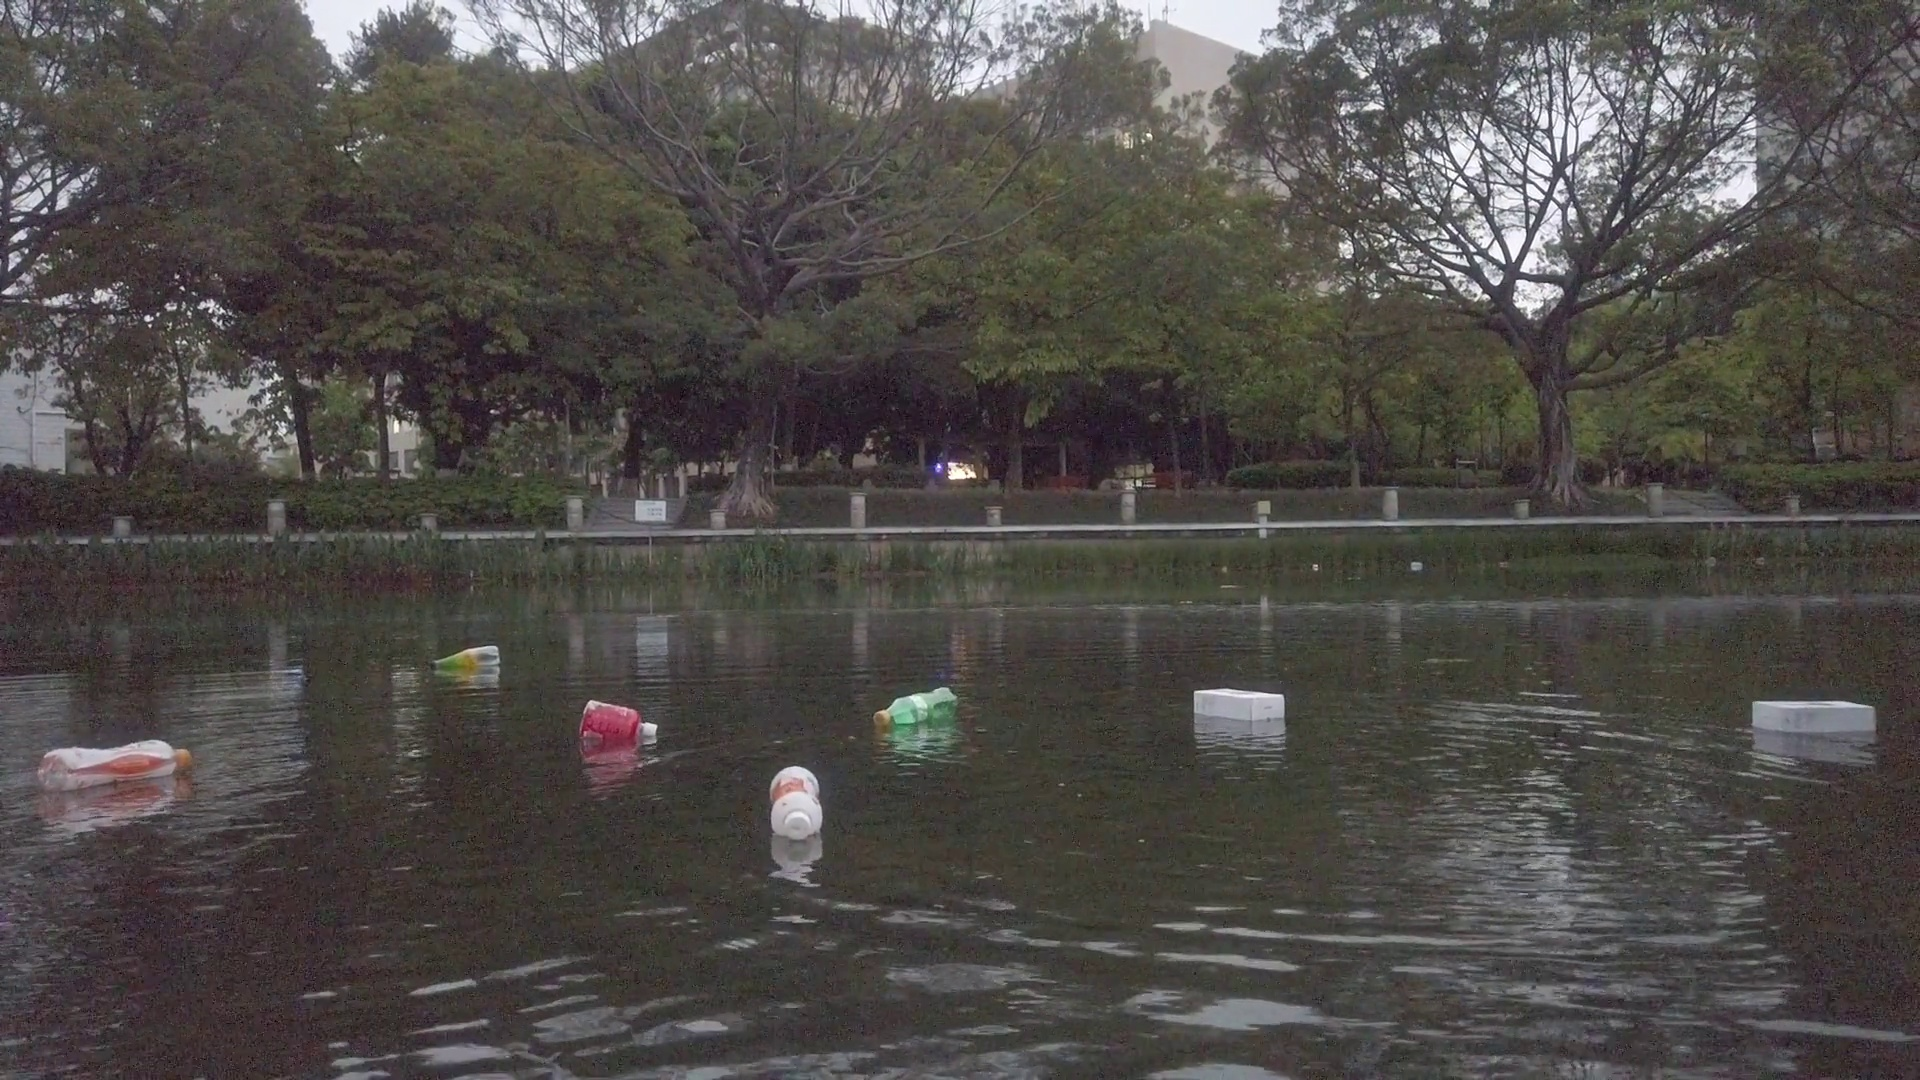bottle: (40, 738, 193, 785), (767, 764, 822, 841), (578, 698, 659, 746), (872, 684, 957, 723), (431, 642, 498, 669)
carton: (1751, 698, 1878, 735), (1192, 682, 1284, 721), (1410, 560, 1422, 568)
